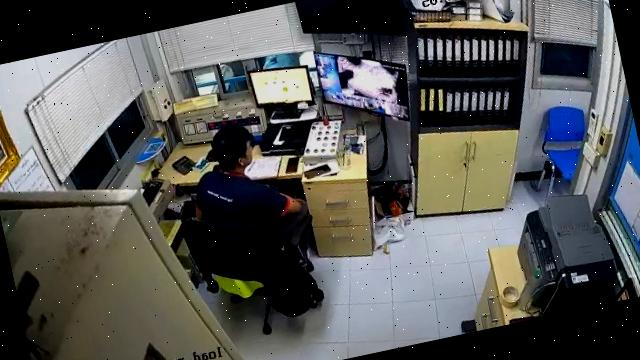Head: (204, 121, 260, 178)
People: (196, 126, 309, 246)
Phone: (303, 164, 333, 179), (286, 156, 300, 174)
